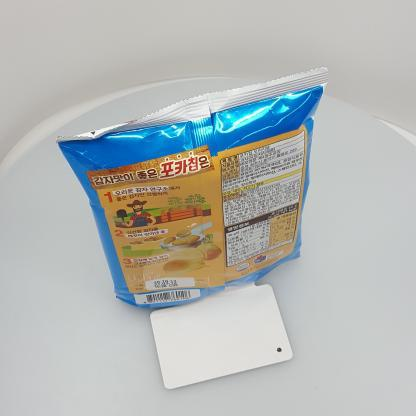Plastic Packaging: (64, 64, 324, 312)
